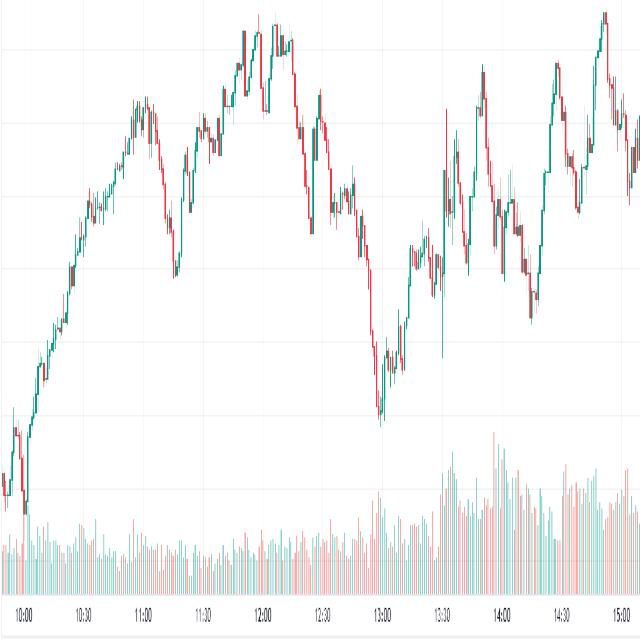Channel-up: (11, 26, 167, 468), (160, 0, 267, 304)
Falling-Wedge: (301, 50, 375, 273)
Head-Shoulders: (439, 50, 531, 317)
